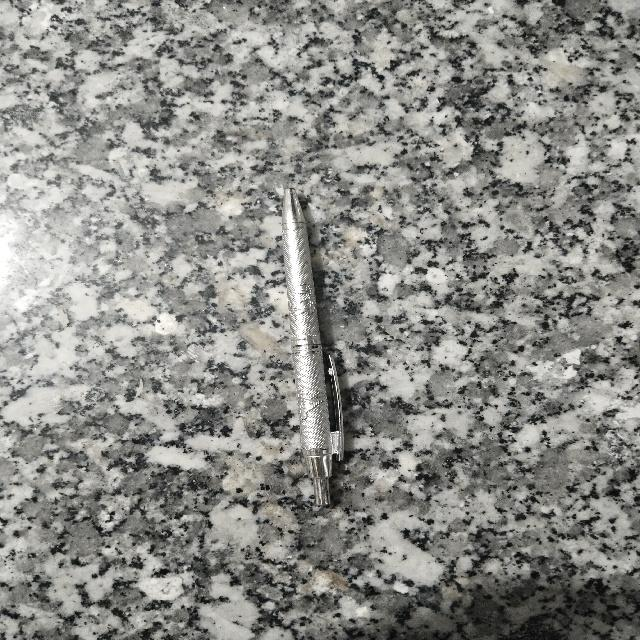signature pen: (282, 188, 343, 504)
